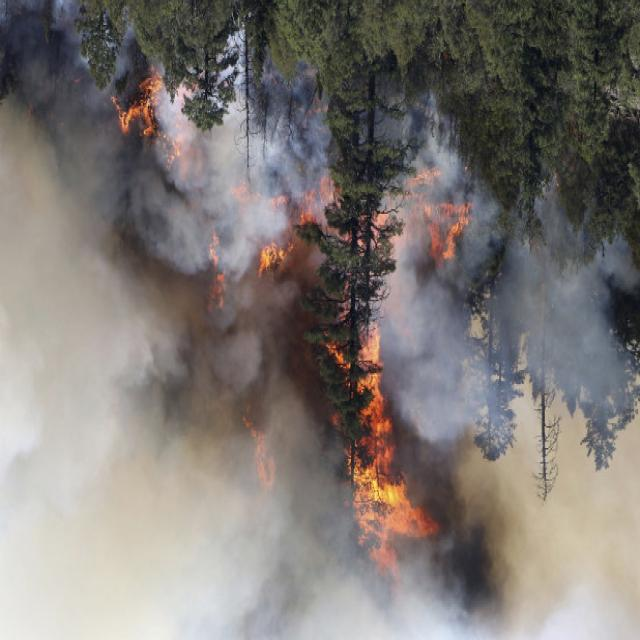fire: (309, 282, 454, 569), (309, 147, 485, 270), (194, 178, 304, 317), (117, 52, 205, 172), (235, 381, 287, 491)
